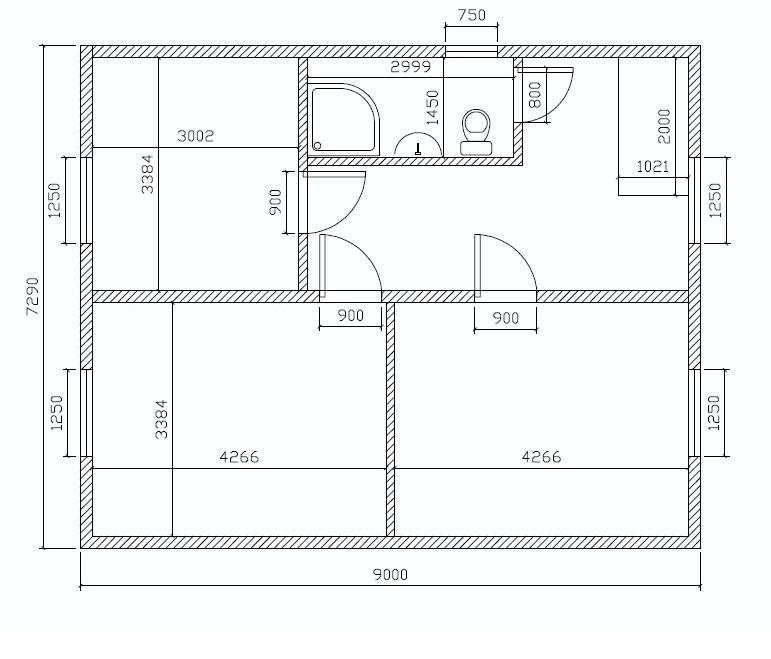bathroom: (307, 58, 514, 158)
bedroom: (92, 302, 388, 536), (395, 303, 689, 537)
hallway: (308, 57, 688, 292)
kitchen: (92, 58, 299, 292)
walk_in_closet: (618, 57, 688, 196)
